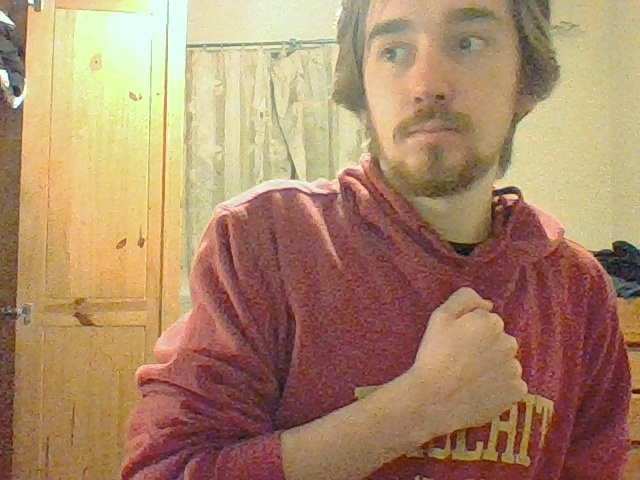my: (421, 286, 528, 426)
